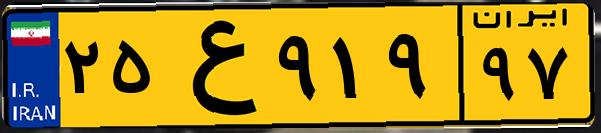1: (330, 28, 385, 110)
2: (57, 26, 110, 100)
5: (110, 28, 158, 98)
7: (525, 38, 570, 115)
9: (270, 28, 330, 110), (385, 28, 445, 110), (475, 38, 525, 113)
ع: (158, 12, 270, 120)
